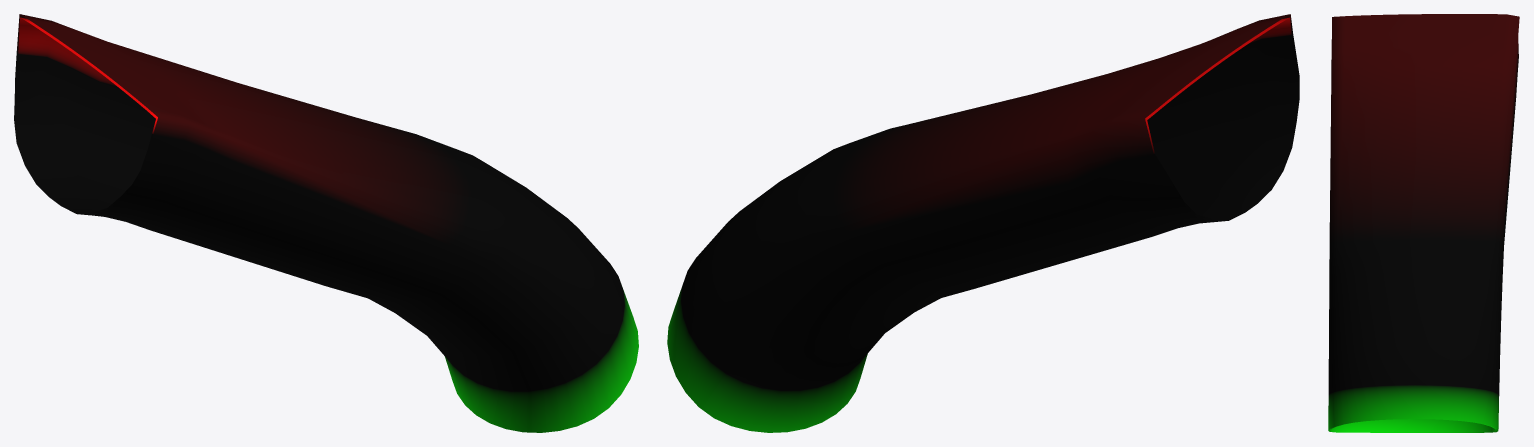
File: gutter_straight_broken_water_02.fbx
The picture shows the model from 3 angles, left to right: view 1: azimuth 30°, elevation 25°; view 2: azimuth 150°, elevation 25°; view 3: azimuth 270°, elevation 25°; orthographic projection. The views are drawn at different scales.
Parts seen in each view (by area): view 1: Circle.008; view 2: Circle.008; view 3: Circle.008.
Part boxes in pixels (x1,y1,x2,y2): Circle.008: [14, 14, 638, 432]; Circle.008: [667, 14, 1299, 432]; Circle.008: [1328, 14, 1519, 432].
Size of the model in its own units: 1.2 by 0.9163 by 0.539.
